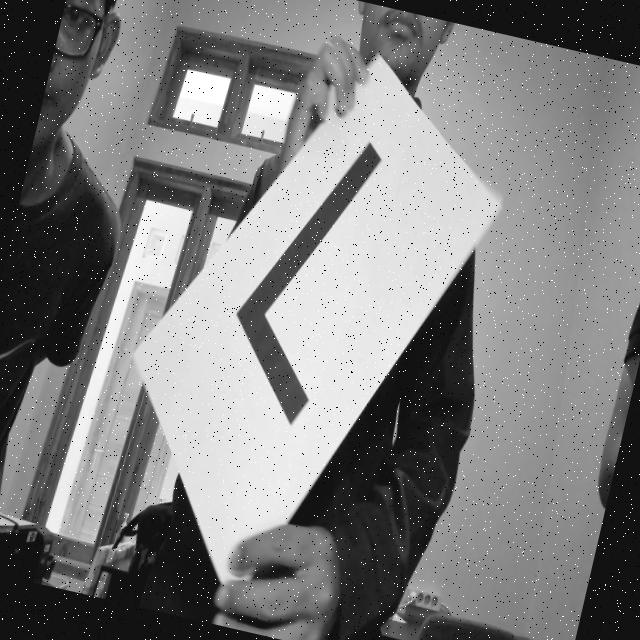l: (186, 94, 404, 468)
